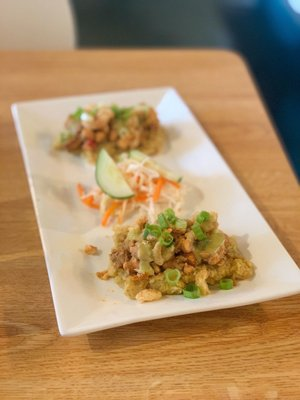sushi: (8, 82, 300, 338)
